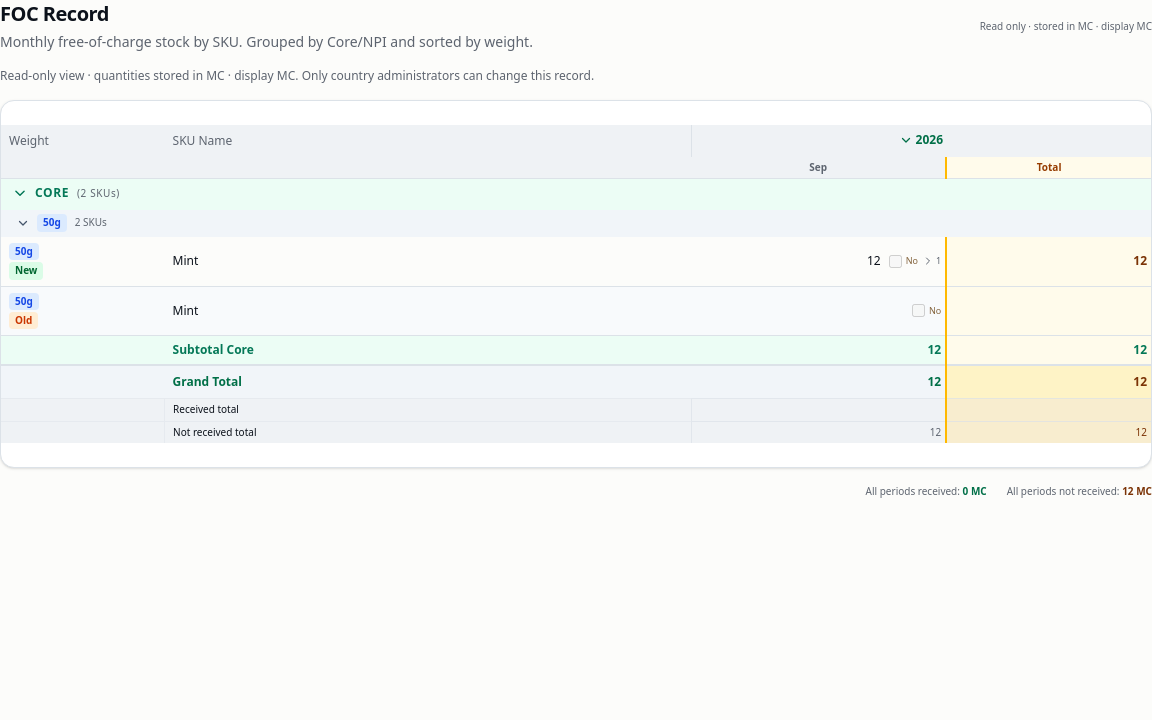
Test: separate FOC Record › keeps viewers read-only but lets them inspect source lines
Step 1. Click the button "1" → (932, 261), box [922,255,941,267]
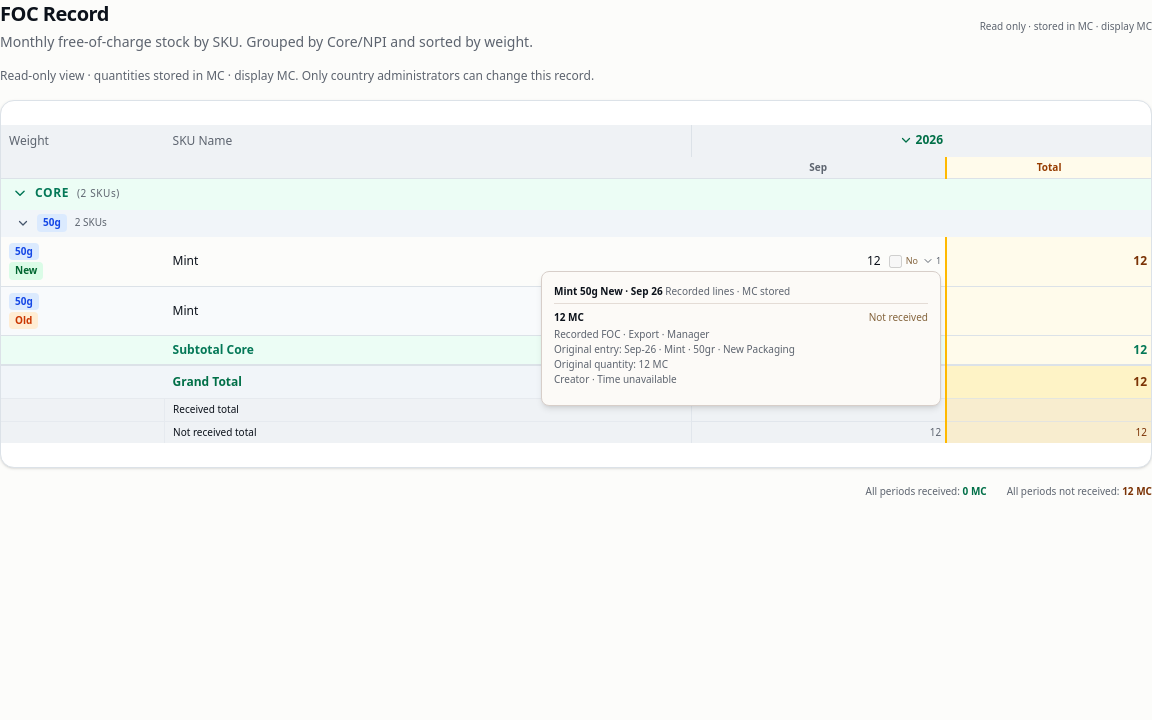
expect the text "Recorded FOC · Export · Manager" is shown: met, box [554,327,710,341]
